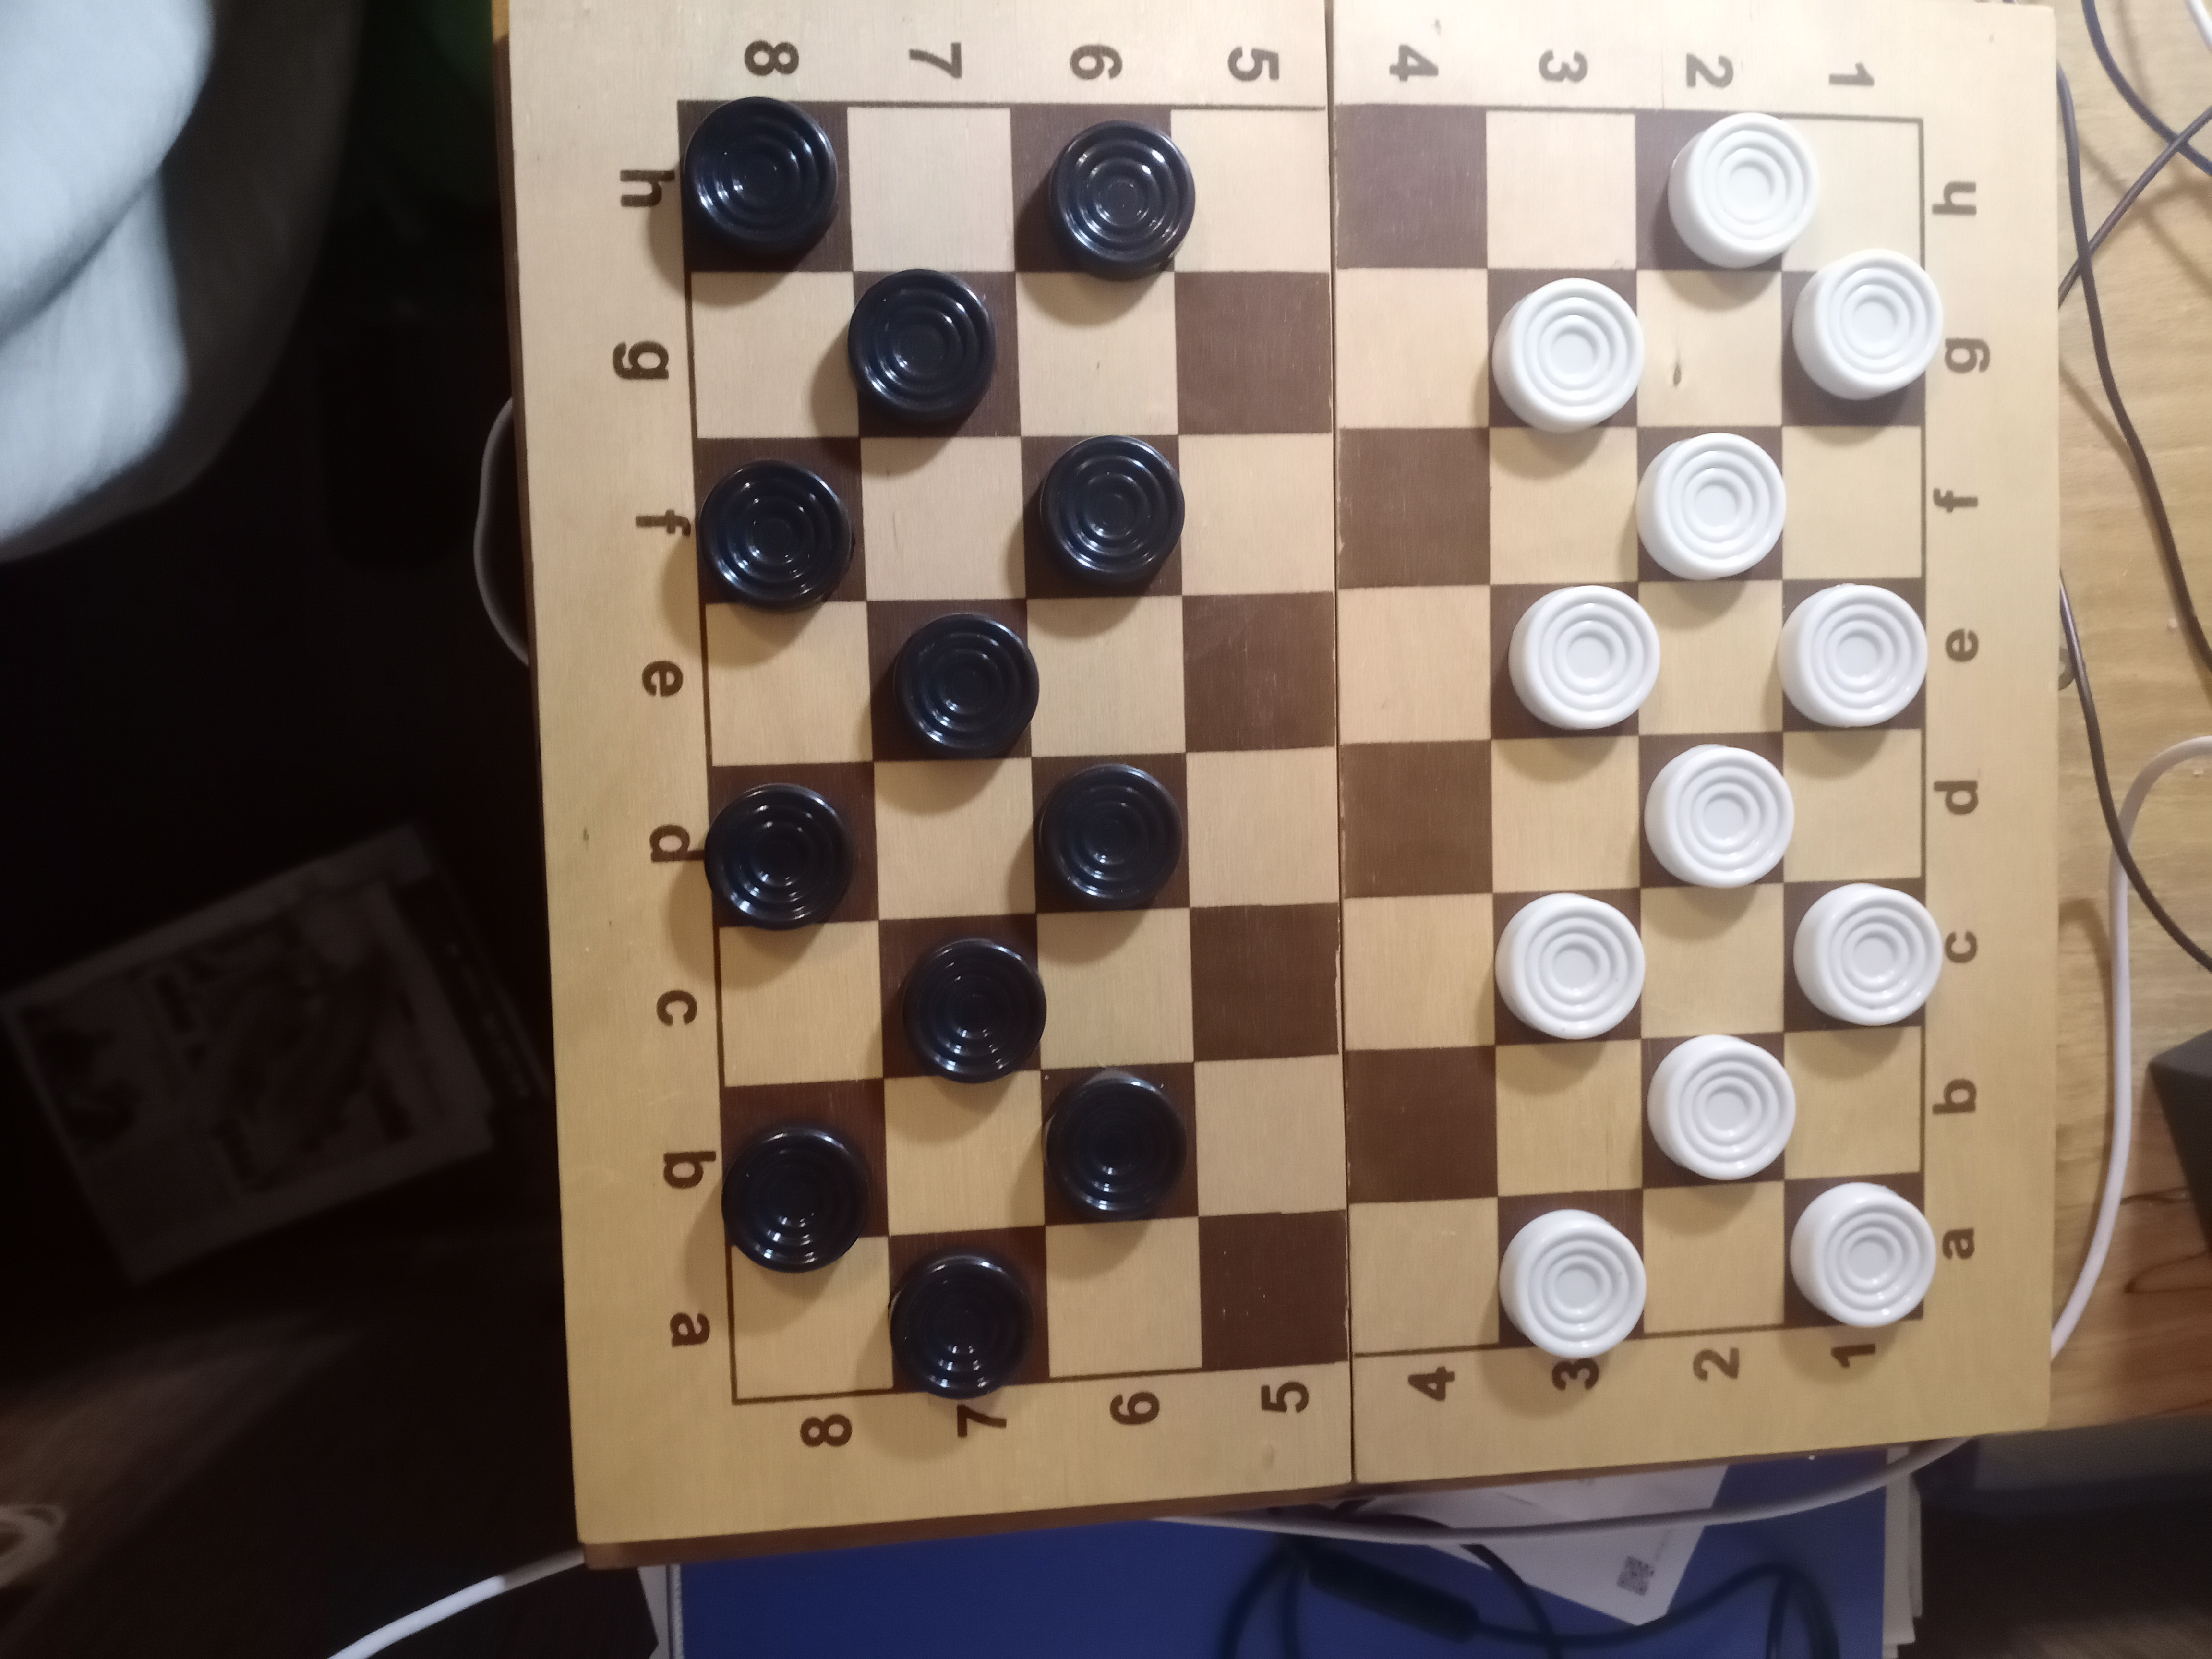White_Draught: (1637, 112, 1822, 272), (1780, 249, 1942, 427), (1489, 582, 1660, 739), (1487, 268, 1646, 434), (1498, 1190, 1648, 1358), (1639, 732, 1794, 889), (1642, 1032, 1796, 1190), (1784, 1173, 1939, 1328), (1634, 427, 1787, 584), (1493, 889, 1646, 1044), (1784, 880, 1942, 1030), (1778, 580, 1930, 734)
